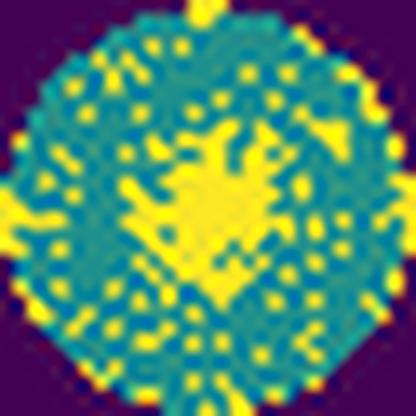Center: (122, 115, 298, 311)
